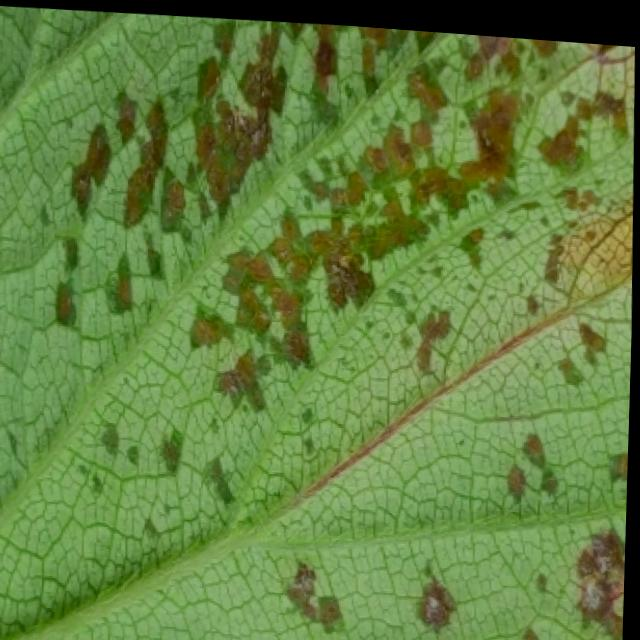Angular Leafspot: (0, 14, 634, 640)
